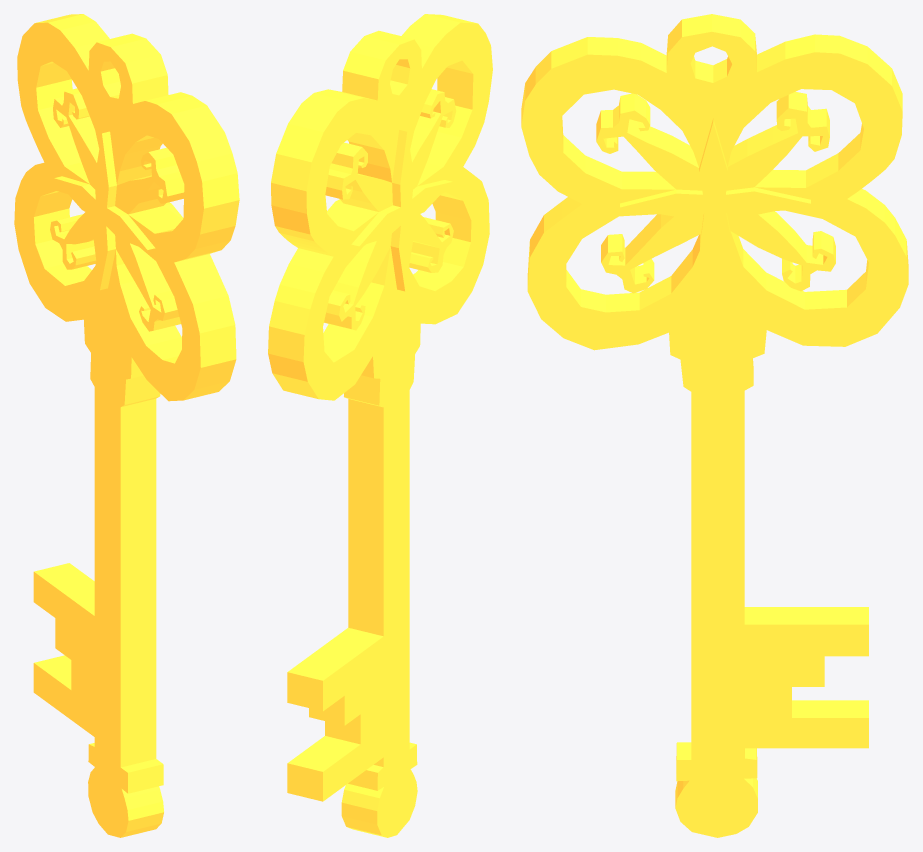
Rendered from Key.fbx.
3 renders of one model, left to right at view 1: azimuth 30°, elevation 25°; view 2: azimuth 150°, elevation 25°; view 3: azimuth 270°, elevation 25°, orthographic. The views are drawn at different scales.
Visible parts, largest first — view 1: Circle; view 2: Circle; view 3: Circle.
Part boxes in pixels (<box>): Circle: <box>14,14,239,837</box>; Circle: <box>268,14,492,837</box>; Circle: <box>521,14,908,837</box>.
Bounding box in the file's own units: 31.44 × 457 × 199.
